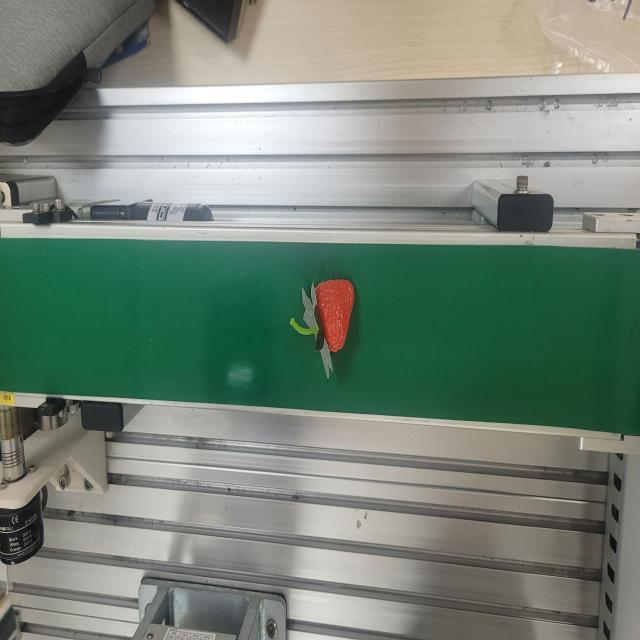Small Ripe Strawberry: (301, 275, 359, 370)
